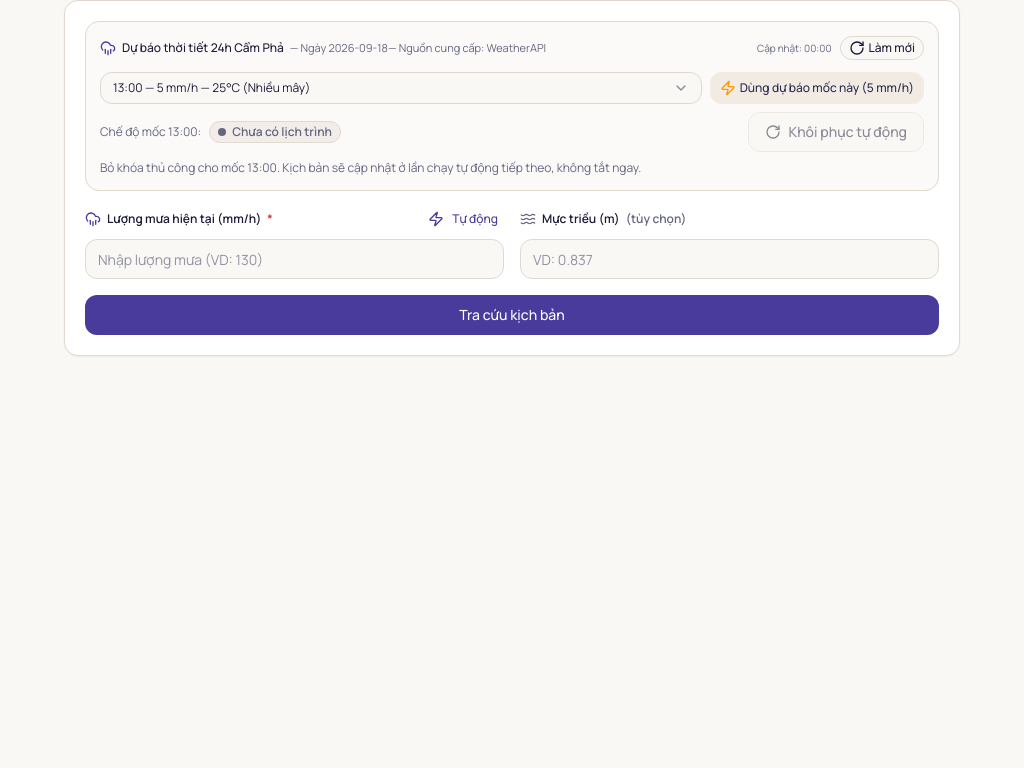
KttvInputForm › displays safe message when rainfall is 0 and no scenarios are active
Type "0" into the field labelled "Lượng mưa hiện tại (mm/h) *". click: point(294, 259)
box: [85, 239, 504, 279]
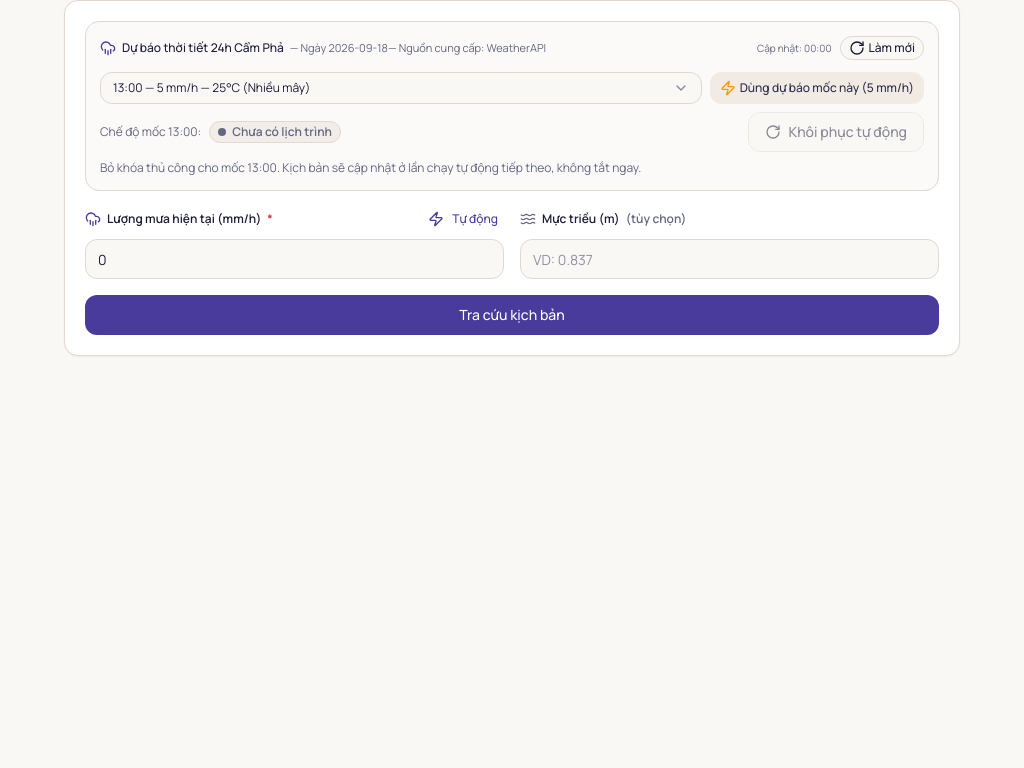
Click the button "Tra cứu kịch bản". click: point(512, 315)
box: [85, 295, 939, 335]
(page scrolled)
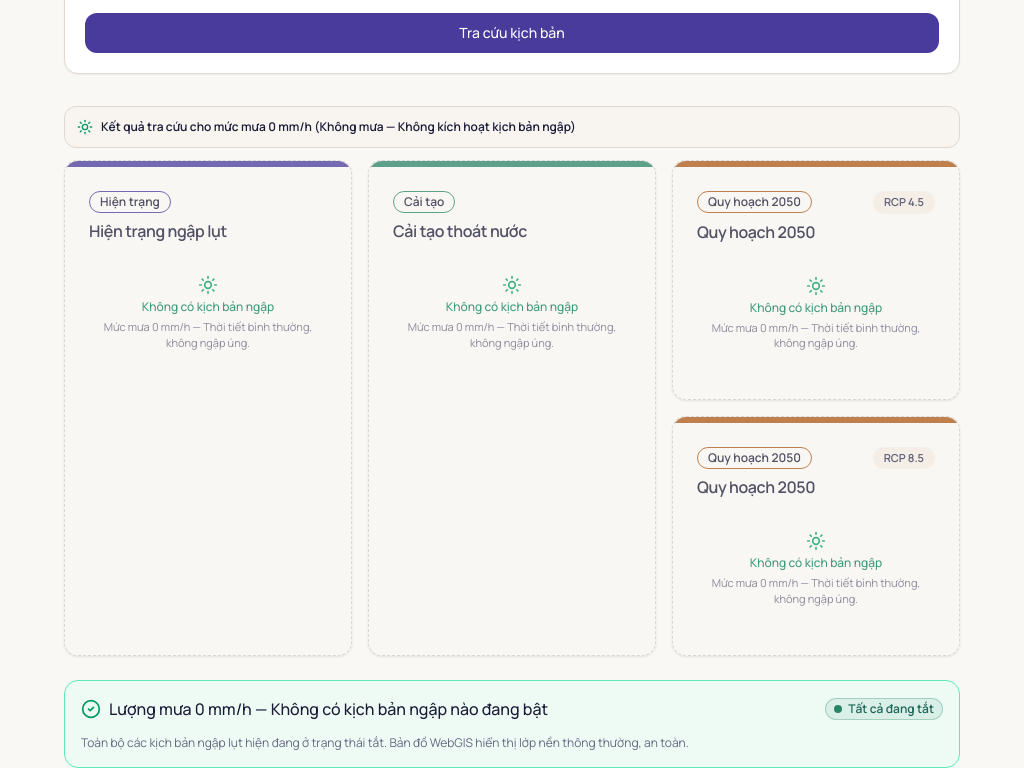
Expected: the text "Lượng mưa 0 mm/h — Không có kịch bản ngập nào đang bật" is shown, [109, 697, 548, 721]
